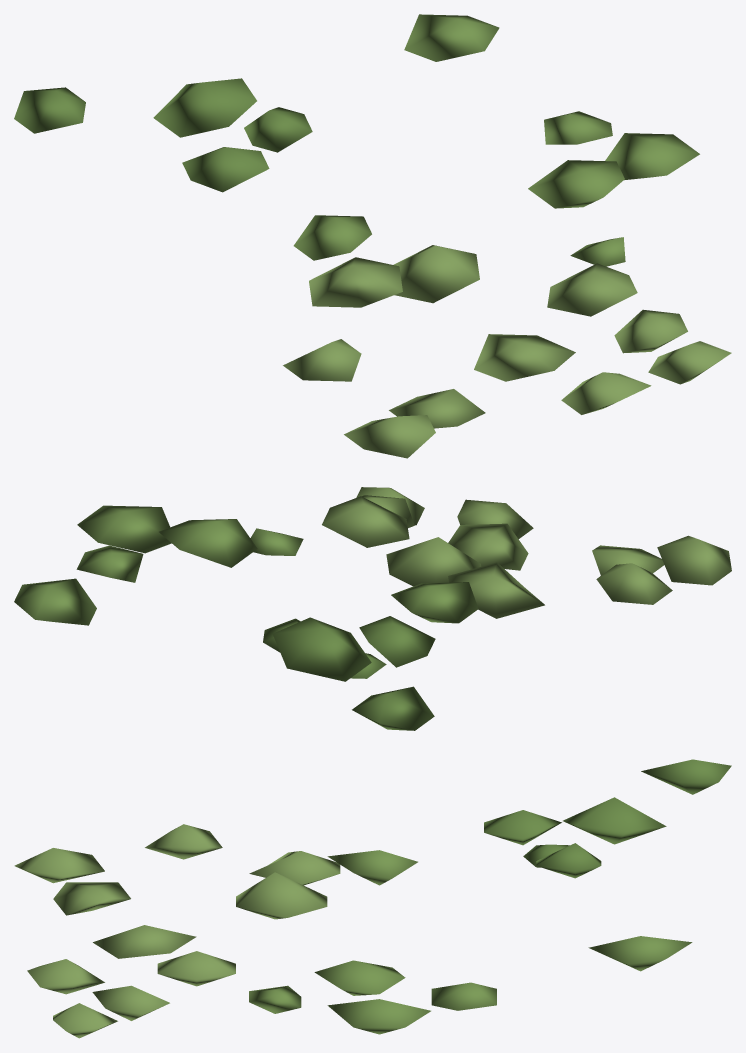
File: canopy-2--1-2.glb
The picture shows the model from 3 angles, top to bottom: view 1: azimuth 30°, elevation 25°; view 2: azimuth 150°, elevation 25°; view 3: azimuth 270°, elevation 25°; orthographic projection. The views are drawn at different scales.
Size of the model in its own units: 108 by 30 by 138.
Materials: 1 (1 with a texture image).
